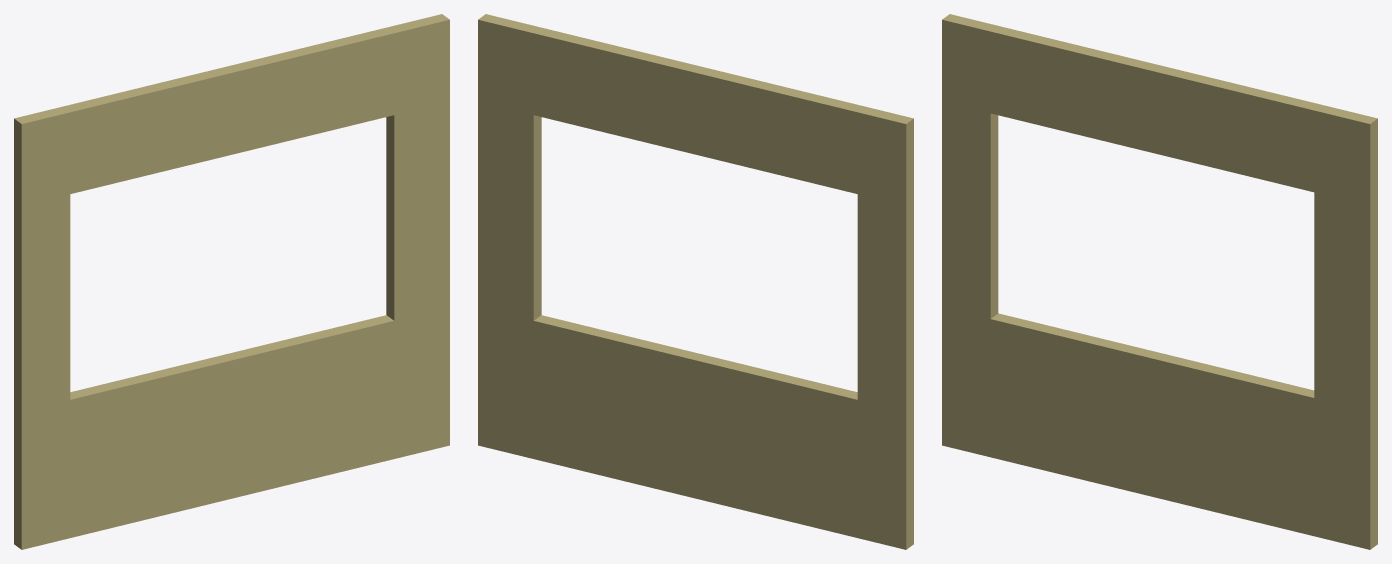
File: ruin1.fbx
The picture shows the model from 3 angles, left to right: view 1: azimuth 30°, elevation 25°; view 2: azimuth 150°, elevation 25°; view 3: azimuth 330°, elevation 25°; orthographic projection.
Visible parts, largest first — view 1: Boole_1; view 2: Boole_1; view 3: Boole_1.
Boxes of the visible parts, x1=… form: Boole_1: x1=14, y1=14, x2=449, y2=549; Boole_1: x1=478, y1=14, x2=913, y2=549; Boole_1: x1=942, y1=14, x2=1377, y2=549.
Size of the model in its own units: 344 by 327 by 10.86.
